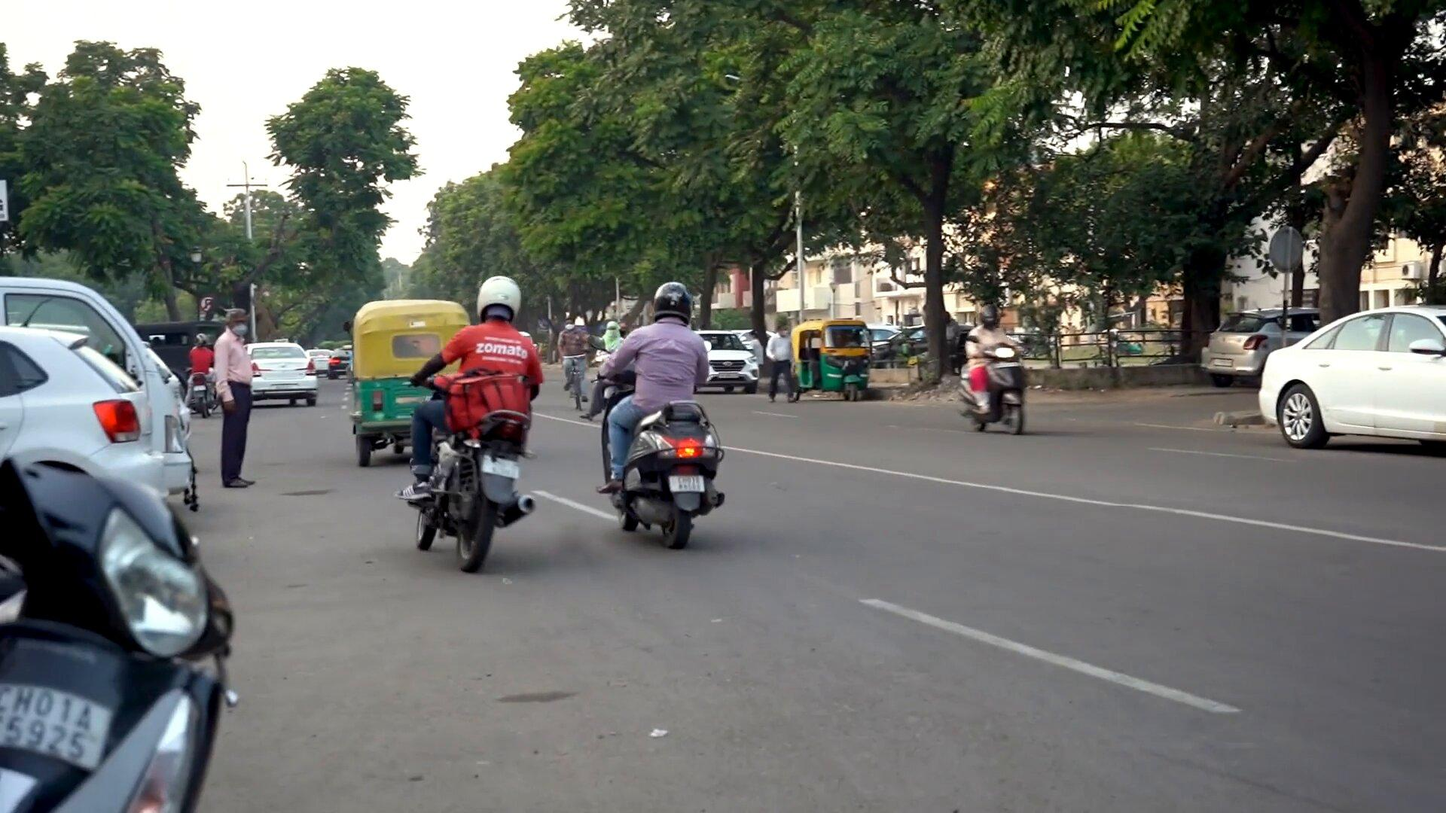bicyclist: (556, 318, 588, 412)
driver: (397, 274, 544, 572), (589, 282, 725, 549), (959, 303, 1029, 435)
helmet: (476, 274, 522, 323), (653, 282, 691, 325)
